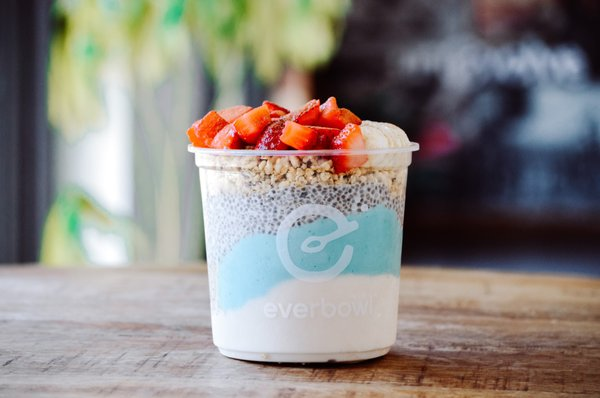pizza: (187, 104, 418, 366)
